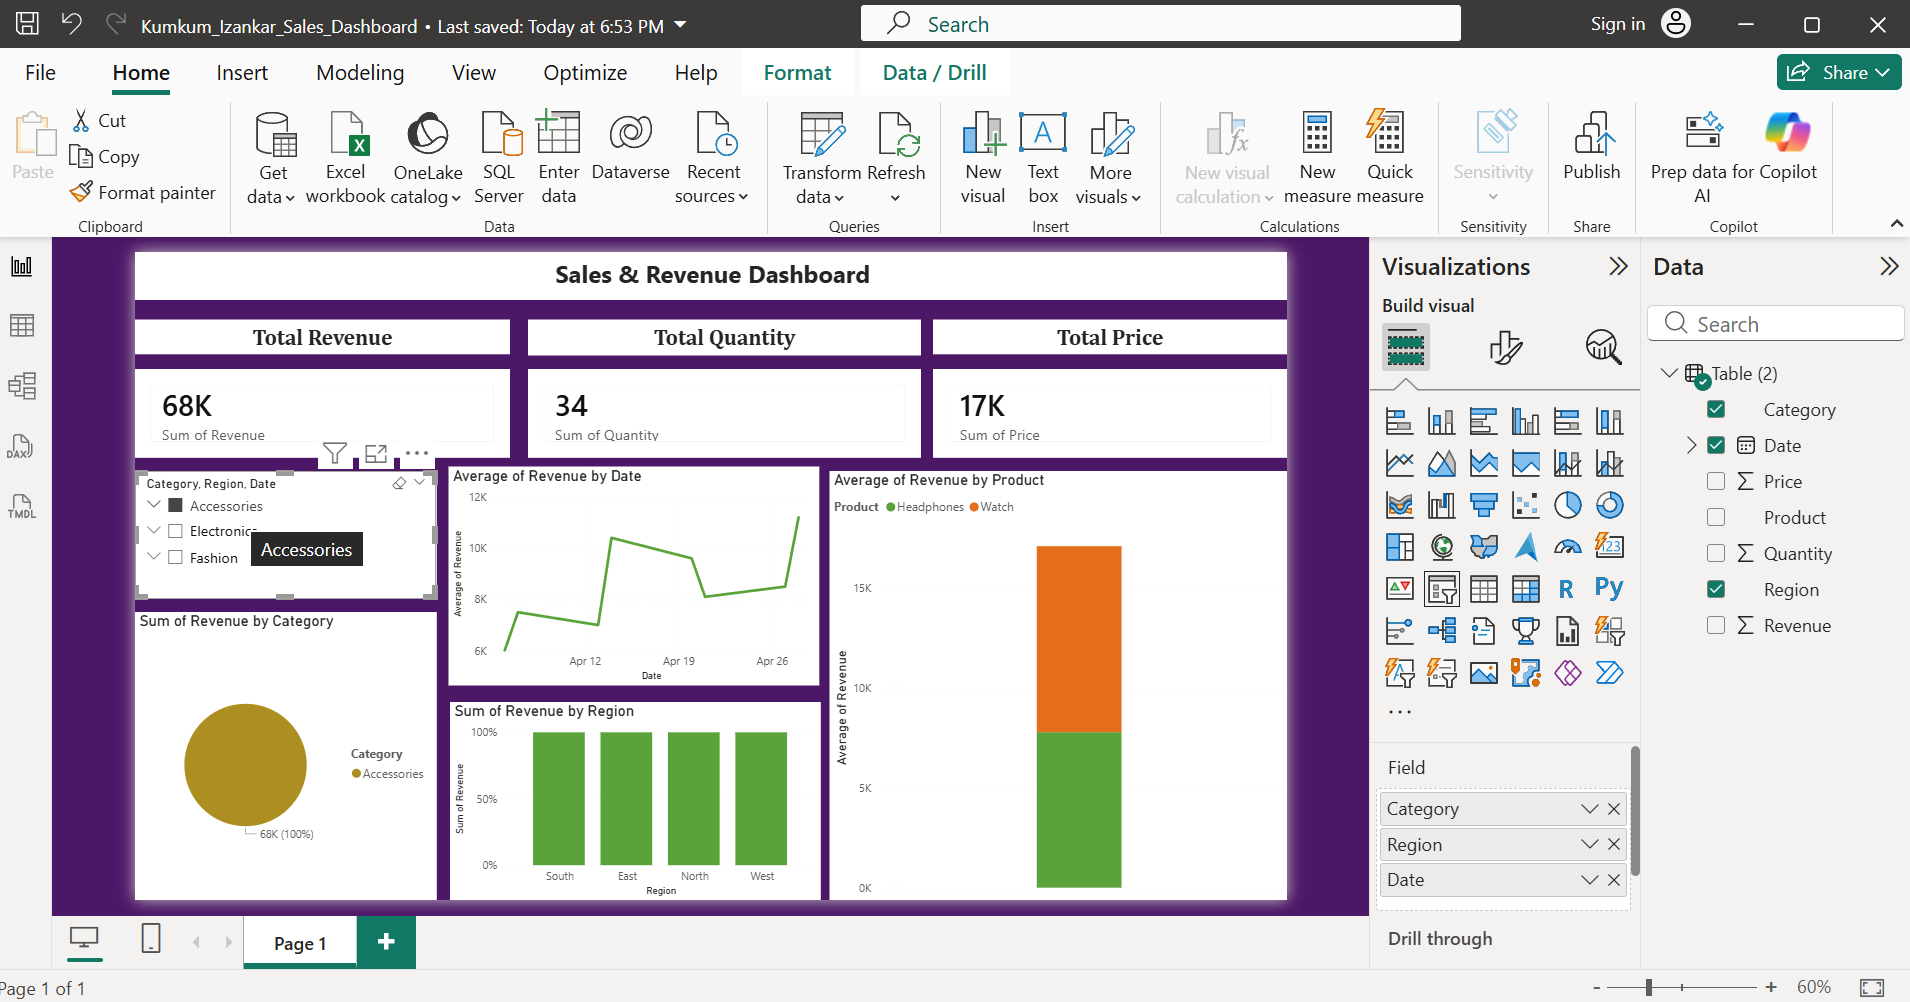

Layout of this report page (visuals, bound fields, positions):
{"tool":"powerbi","page":{"name":"Page 1","canvas":[1280,720],"ordinal":0},"visuals":[{"type":"cardVisual","fields":{"Data":["Sum(Table (2).Revenue)"]},"box":[0,130,416.7,98.3],"z":0},{"type":"textbox","box":[0,75,416.7,38.3],"z":1000},{"type":"cardVisual","fields":{"Data":["Sum(Table (2).Quantity)"]},"box":[436.7,130,436.7,98.3],"z":2000},{"type":"textbox","box":[436.7,75,436.7,40],"z":3000},{"type":"cardVisual","fields":{"Data":["Sum(Table (2).Price)"]},"box":[886.7,130,393.3,98.3],"z":4000},{"type":"textbox","box":[886.7,75,393.3,38.3],"z":5000},{"type":"columnChart","fields":{"Y":["Avg(Table (2).Revenue)"],"Series":["Table (2).Product"]},"box":[771.7,243.3,508.3,476.7],"z":6000},{"type":"lineChart","fields":{"Category":["Table (2).Date"],"Y":["Avg(Table (2).Revenue)"]},"box":[348.3,238.3,411.7,243.3],"z":7000},{"type":"pieChart","fields":{"Category":["Table (2).Category"],"Y":["Sum(Table (2).Revenue)"]},"box":[0,400,335,320],"z":8000},{"type":"hundredPercentStackedColumnChart","fields":{"Category":["Table (2).Region"],"Y":["Sum(Table (2).Revenue)"]},"box":[350,500,411.7,220],"z":9000},{"type":"slicer","fields":{"Values":["Table (2).Category","Table (2).Region","Table (2).Date"]},"box":[0,243.3,335,141.7],"z":10000},{"type":"textbox","box":[0,0,1280,53.3],"z":11000}]}

Visuals, with their boxes on the page's 1280x720 design canvas (x1, y1, x2, y2). These are canvas units, not pixel positions in the 1910x1002 screenshot, which may show the page scaled, cropped or inside an application window:
cardVisual - Sum(Table (2).Revenue): region(0, 130, 417, 228)
textbox: region(0, 75, 417, 113)
cardVisual - Sum(Table (2).Quantity): region(437, 130, 873, 228)
textbox: region(437, 75, 873, 115)
cardVisual - Sum(Table (2).Price): region(887, 130, 1280, 228)
textbox: region(887, 75, 1280, 113)
columnChart - Avg(Table (2).Revenue) x Table (2).Product: region(772, 243, 1280, 720)
lineChart - Table (2).Date x Avg(Table (2).Revenue): region(348, 238, 760, 482)
pieChart - Table (2).Category x Sum(Table (2).Revenue): region(0, 400, 335, 720)
hundredPercentStackedColumnChart - Table (2).Region x Sum(Table (2).Revenue): region(350, 500, 762, 720)
slicer - Table (2).Category x Table (2).Region: region(0, 243, 335, 385)
textbox: region(0, 0, 1280, 53)
